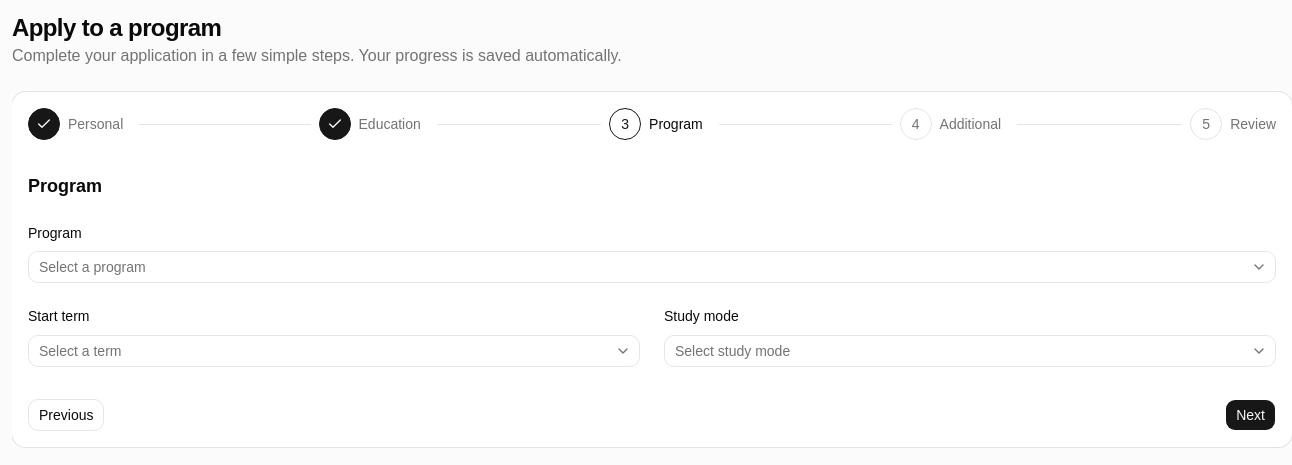
Scenario: ApplyPage › restores the saved step and answers after a refresh
Check: the heading "Program" is shown, box [28,176,102,196]
Click the button "Previous".
click(66, 414)  # box [28,398,104,430]
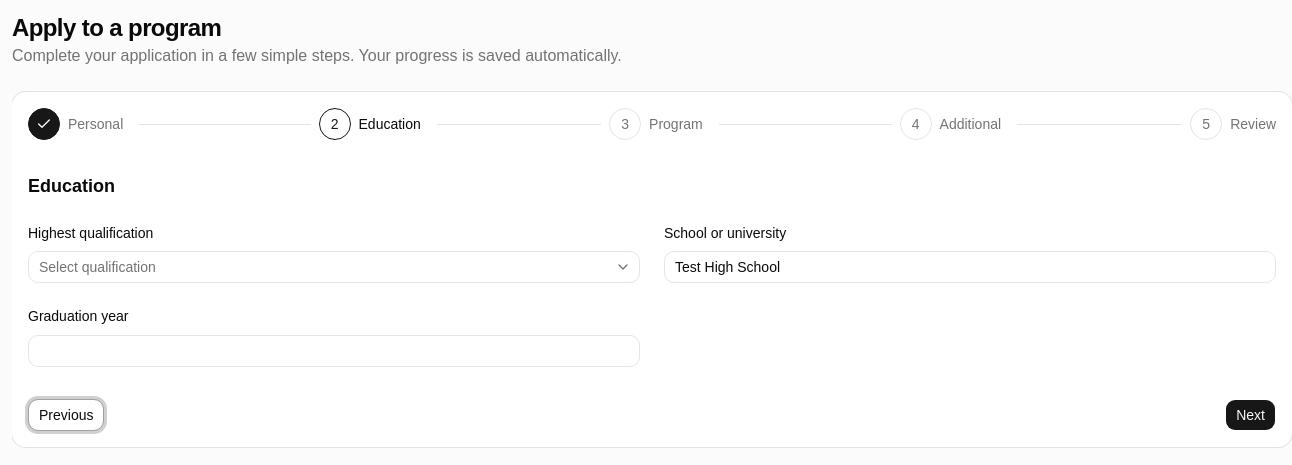
Check: the field labelled "School or university" holds "Test High School", box [664,251,1276,283]
